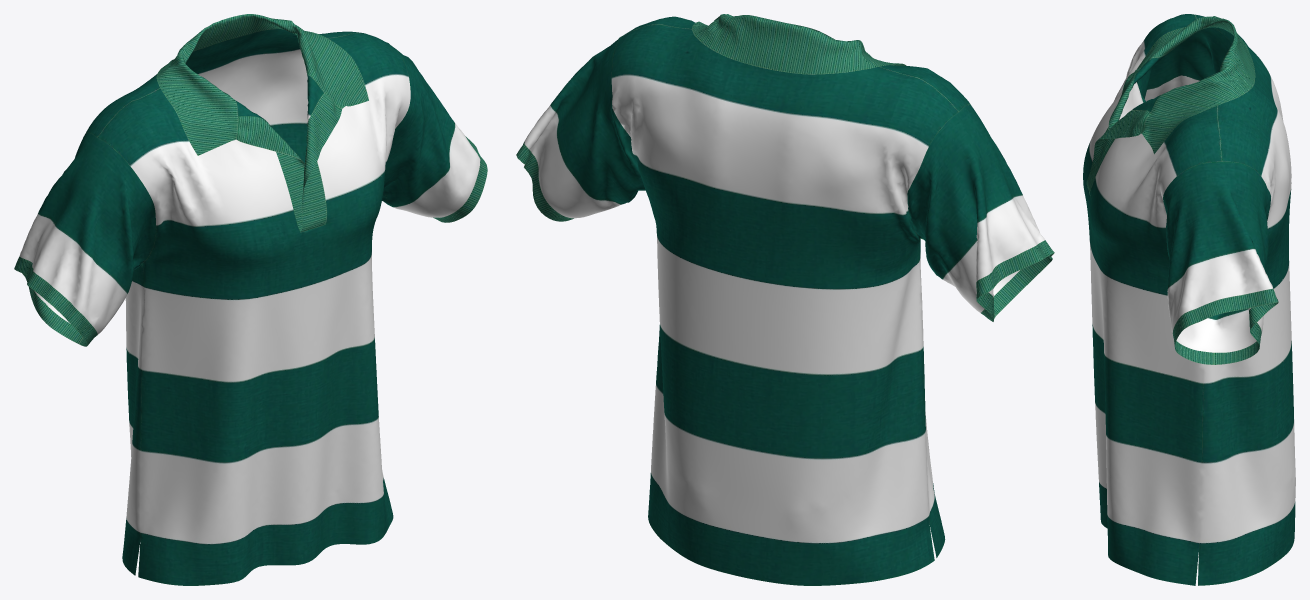
File: Tshirt1-2.glb
3 renders of one model, left to right at view 1: azimuth 30°, elevation 25°; view 2: azimuth 150°, elevation 25°; view 3: azimuth 270°, elevation 25°, orthographic. The views are drawn at different scales.
Visible parts, largest first — view 1: Tshirt; view 2: Tshirt; view 3: Tshirt.
Part boxes in pixels (x1=…): Tshirt: x1=14, y1=14, x2=487, y2=585; Tshirt: x1=516, y1=14, x2=1054, y2=585; Tshirt: x1=1083, y1=14, x2=1295, y2=585.
Size of the model in its own units: 0.6777 by 0.7098 by 0.2756.
Materials: 1 (1 with a texture image).
